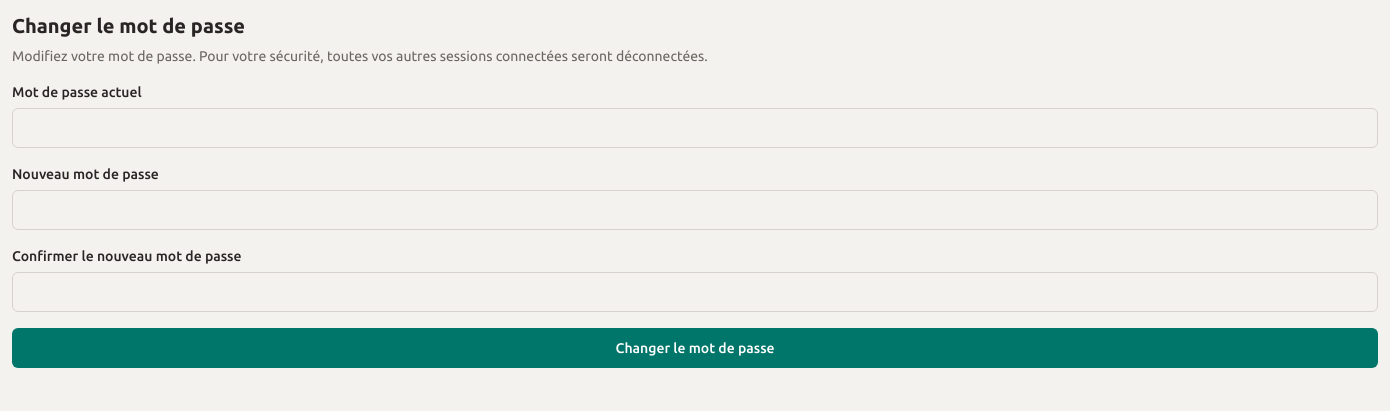
Test: ChangePasswordForm — FR locale › resolves an FR ERROR string on the client min-12 path (NIT 5)
Step 1. Type "actuel-12char" into the password field labelled "Mot de passe actuel" → (695, 128), box [12,108,1378,148]
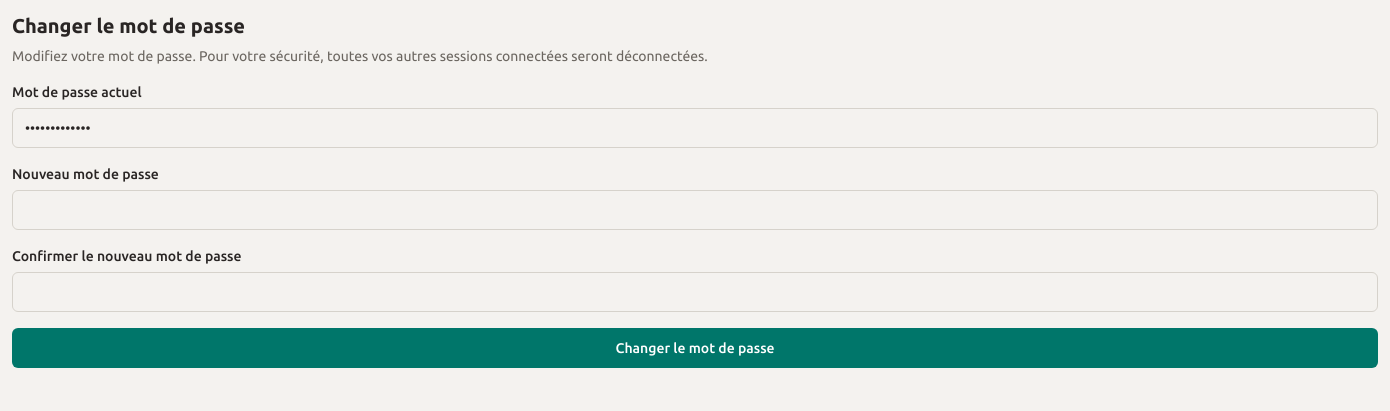
Step 2. Type "court" into the password field labelled "Nouveau mot de passe" → (695, 210), box [12,190,1378,230]
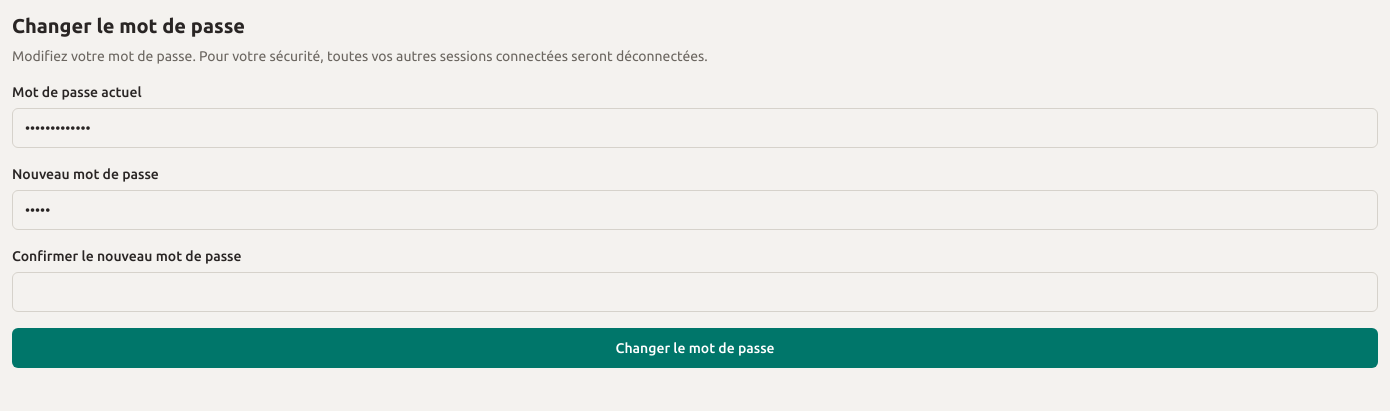
Step 3. Type "court" into the password field labelled "Confirmer le nouveau mot de passe" → (695, 292), box [12,272,1378,312]
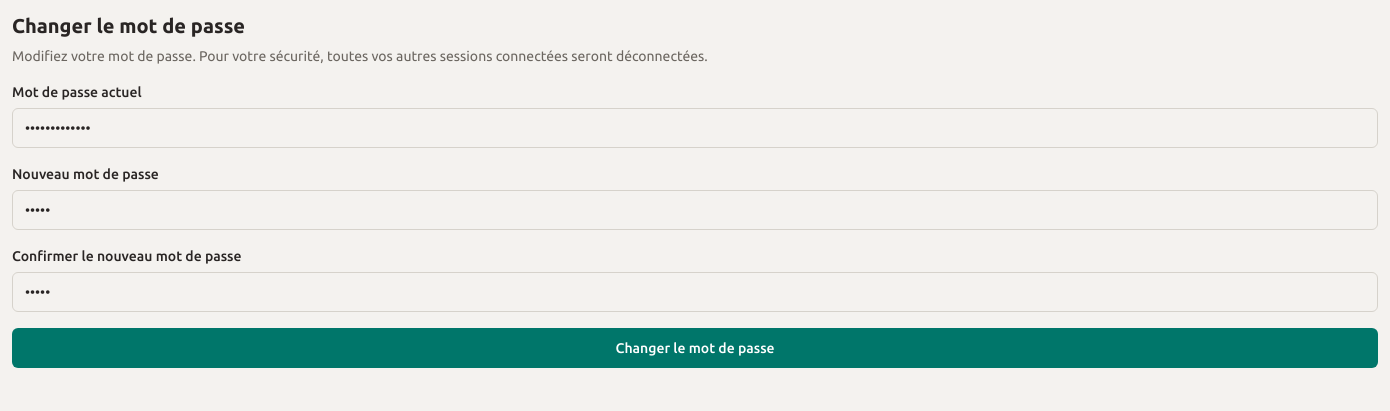
Step 4. Submit the form
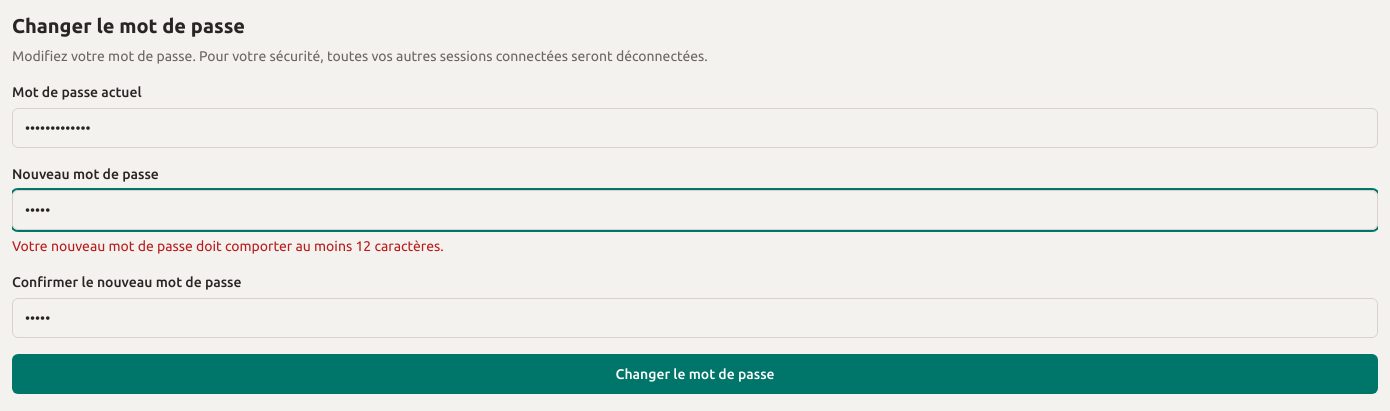
Expected: the text "Votre nouveau mot de passe doit comporter au moins 12 caractères." is shown, [12,238,444,254]
